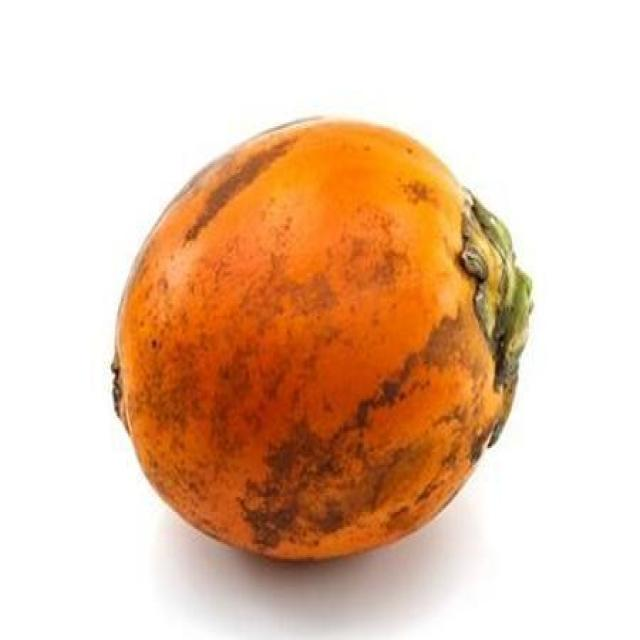good: (112, 119, 532, 565)
